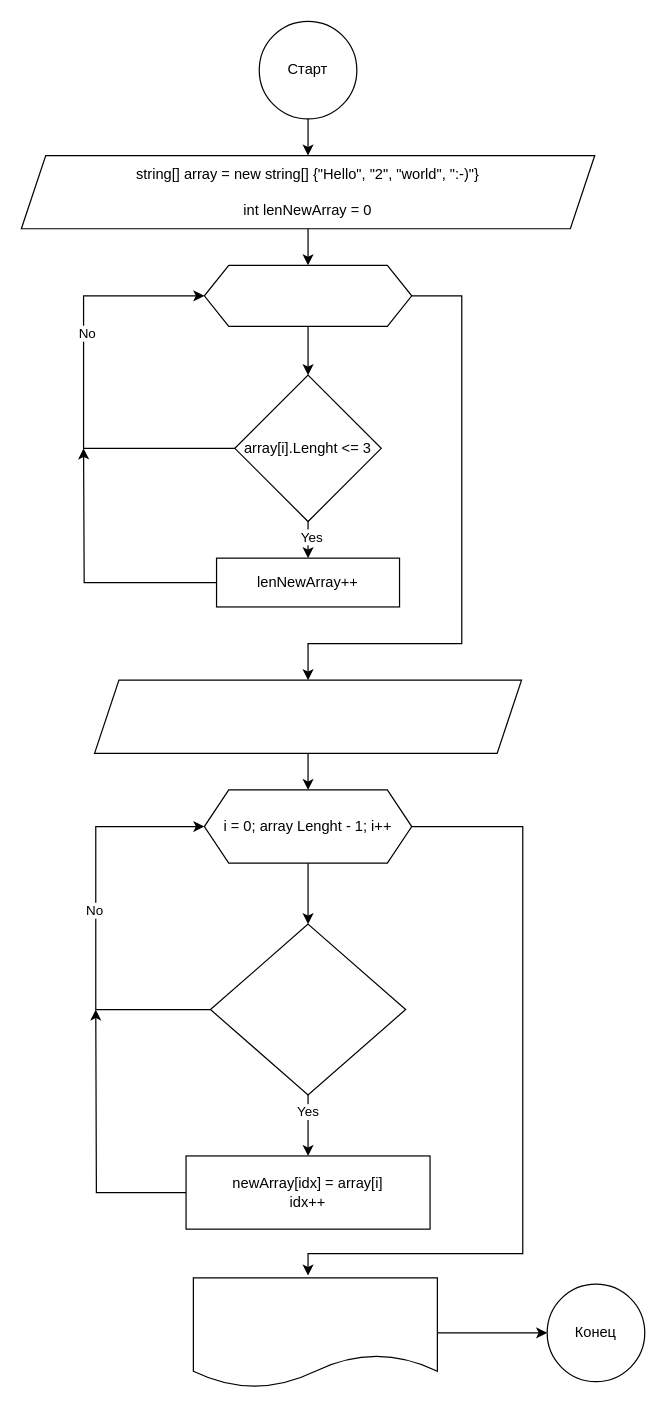
Image size: 666x1409. Some labels were removed from this diagram. The centre of each missing label's shape, as x and y in pixels:
arrai[i] Lenght <=3: (x=307, y=1009)
i = 0; array Length - 1; i++: (x=307, y=295)
PrintArray(array) Console.Write("->") PrintArray(newArray): (x=314, y=1332)
string[] newArray = new string[lenNewArray] int idx = 0;: (x=307, y=716)
